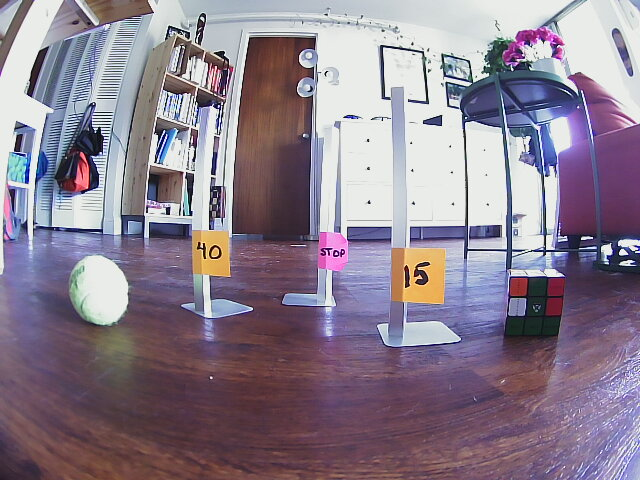15: (387, 244, 448, 306)
40: (188, 227, 233, 278)
ball: (63, 252, 133, 328)
cube: (500, 267, 564, 340)
stop: (315, 230, 351, 272)
